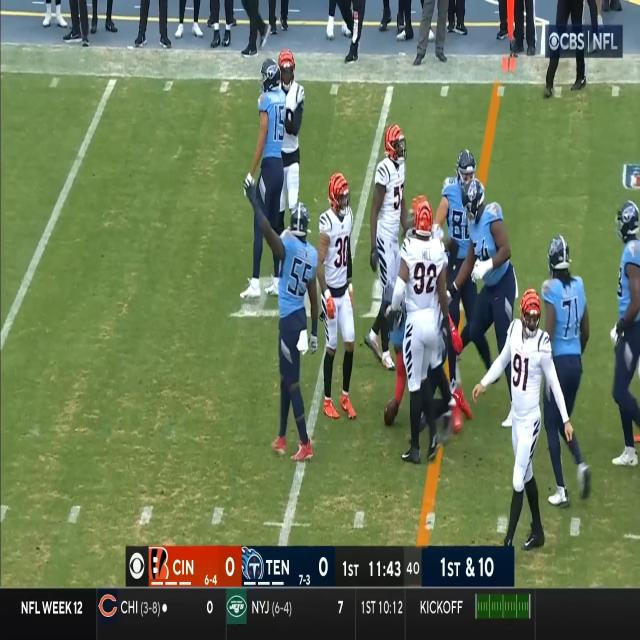players: (390, 190, 450, 482), (461, 168, 516, 419), (248, 53, 304, 297), (271, 194, 318, 476), (503, 284, 548, 574), (438, 130, 483, 417), (314, 169, 358, 445), (364, 116, 407, 393), (544, 224, 584, 475), (604, 200, 640, 471)
